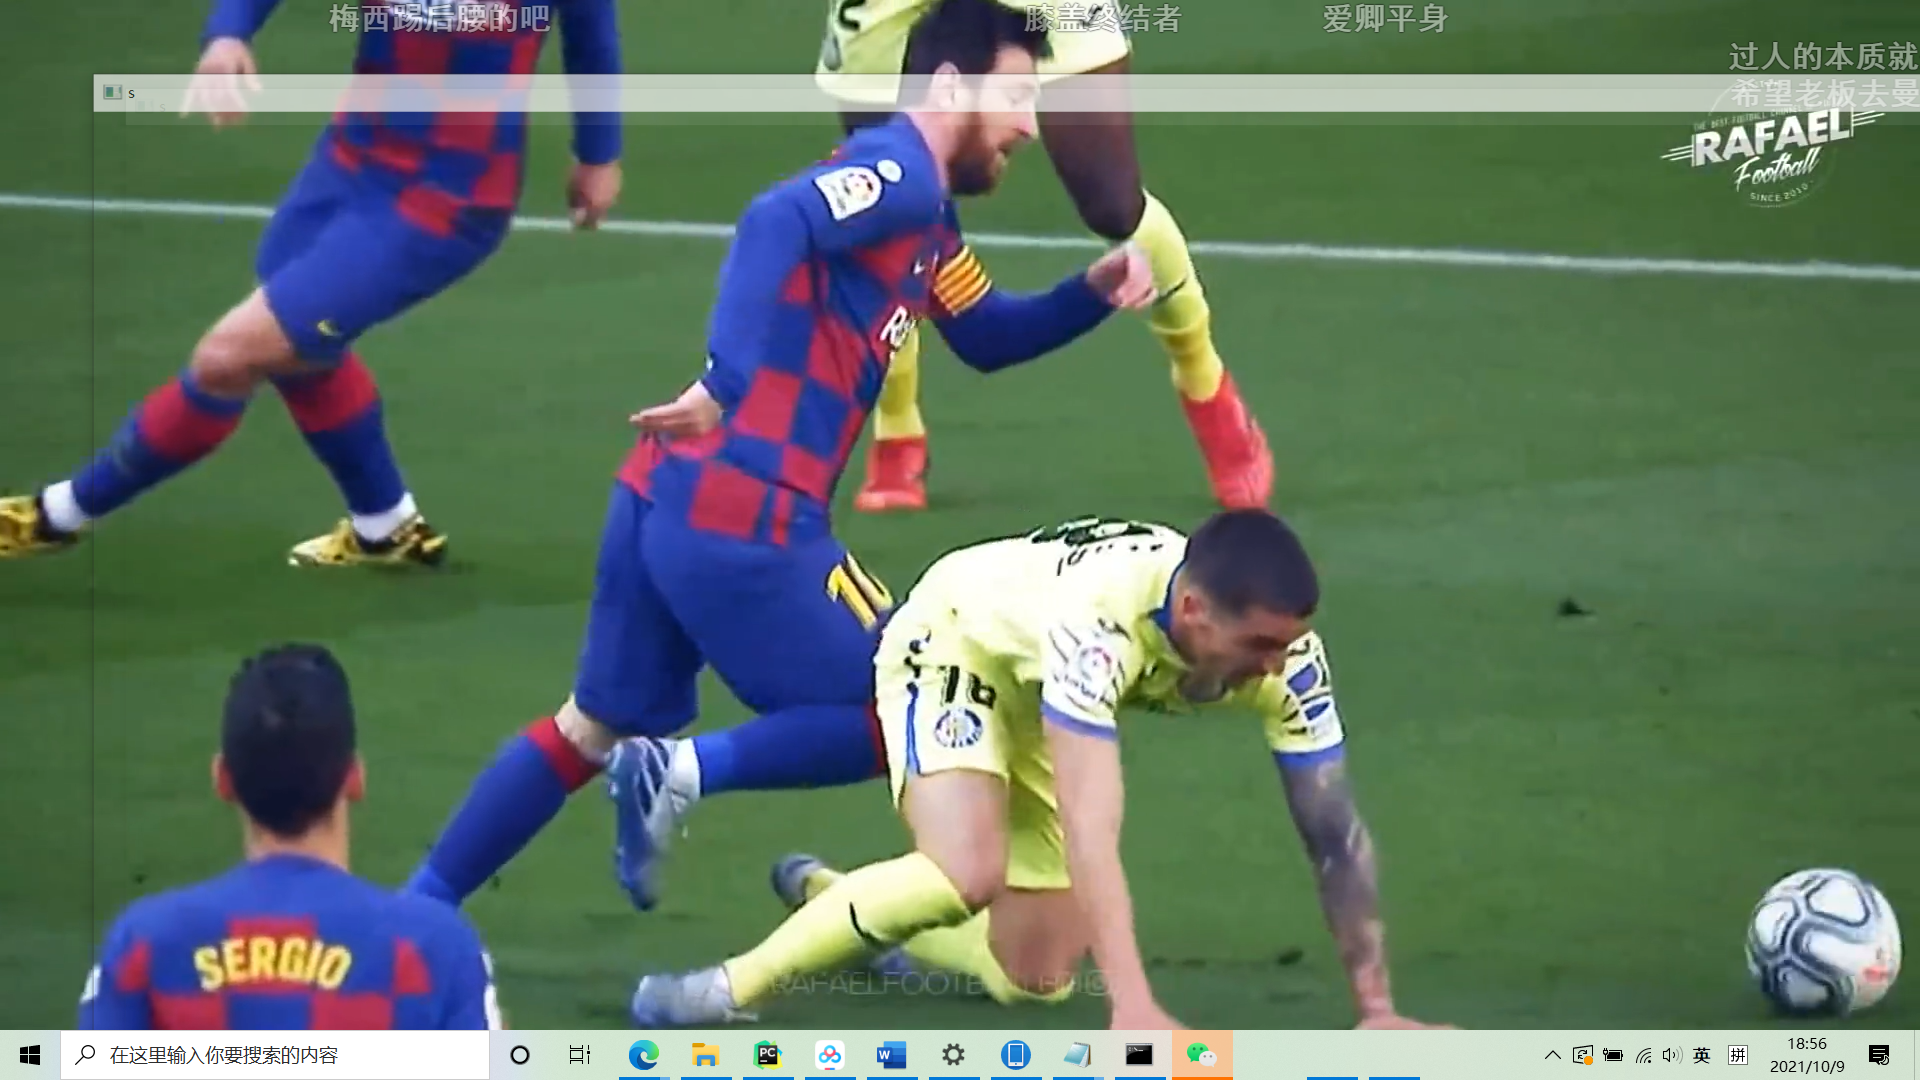ft: (1741, 853, 1900, 1023)
